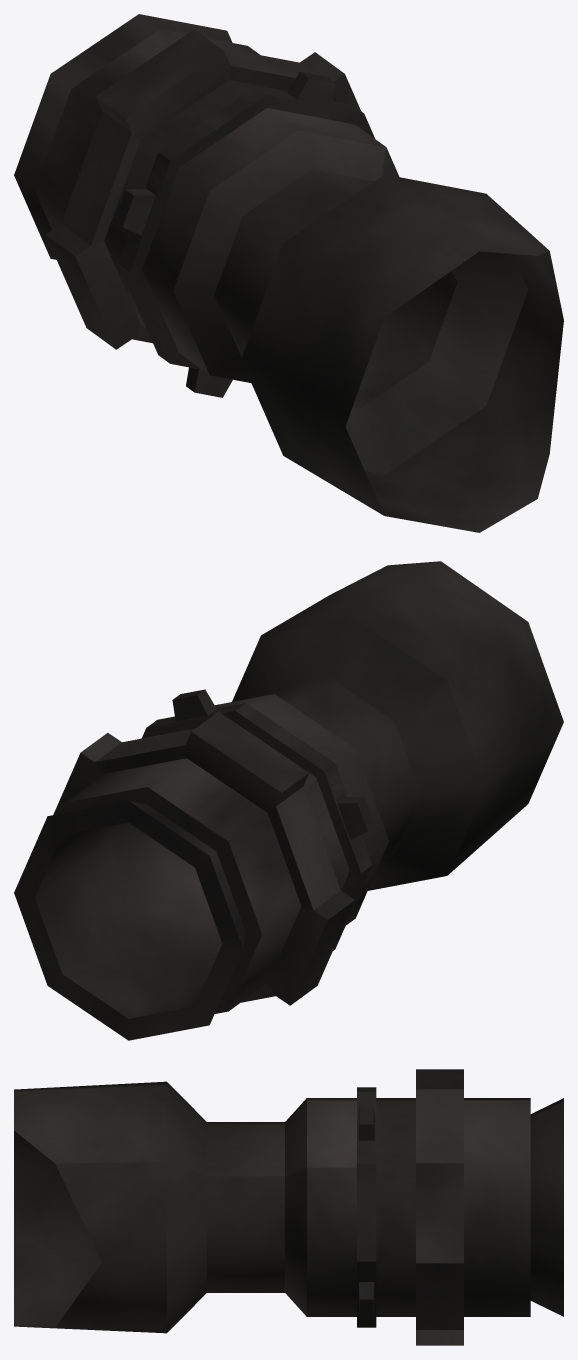
File: e_starboard_inner_engine_d_model.fbx
3 views of the same model, one above another, from view 1: azimuth 30°, elevation 25°; view 2: azimuth 150°, elevation 25°; view 3: azimuth 270°, elevation 25° (orthographic). The views are drawn at different scales.
Parts seen in each view (by area): view 1: starboardNearEngine1; view 2: starboardNearEngine1; view 3: starboardNearEngine1.
Part boxes in pixels (x1,y1,x2,y2): starboardNearEngine1: [14, 14, 563, 532]; starboardNearEngine1: [14, 561, 563, 1040]; starboardNearEngine1: [14, 1069, 563, 1345].
Bounding box in the file's own units: 2247 × 2247 × 4270.
1 material, 1 textured.
